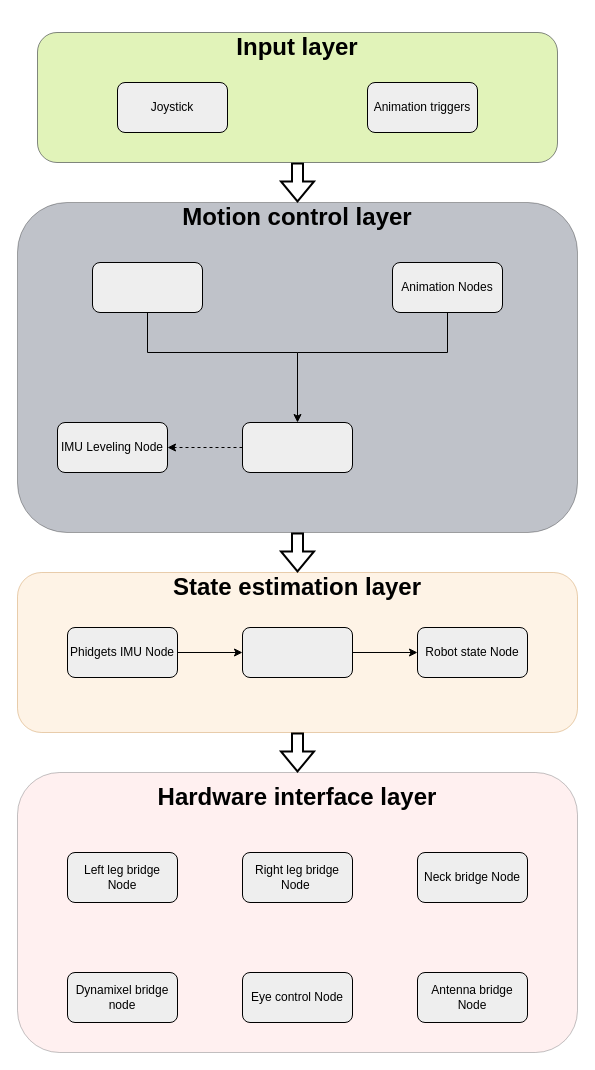
The diagram is 595 pixels wide and 1070 high, and some of its shapes have lost their labels. The centre of each missing label's shape, as x and y in pixels:
Cartesian body controller (IK solver): (x=297, y=447)
Joystick controller Node: (x=147, y=287)
Madgwick Filter: (x=297, y=652)
